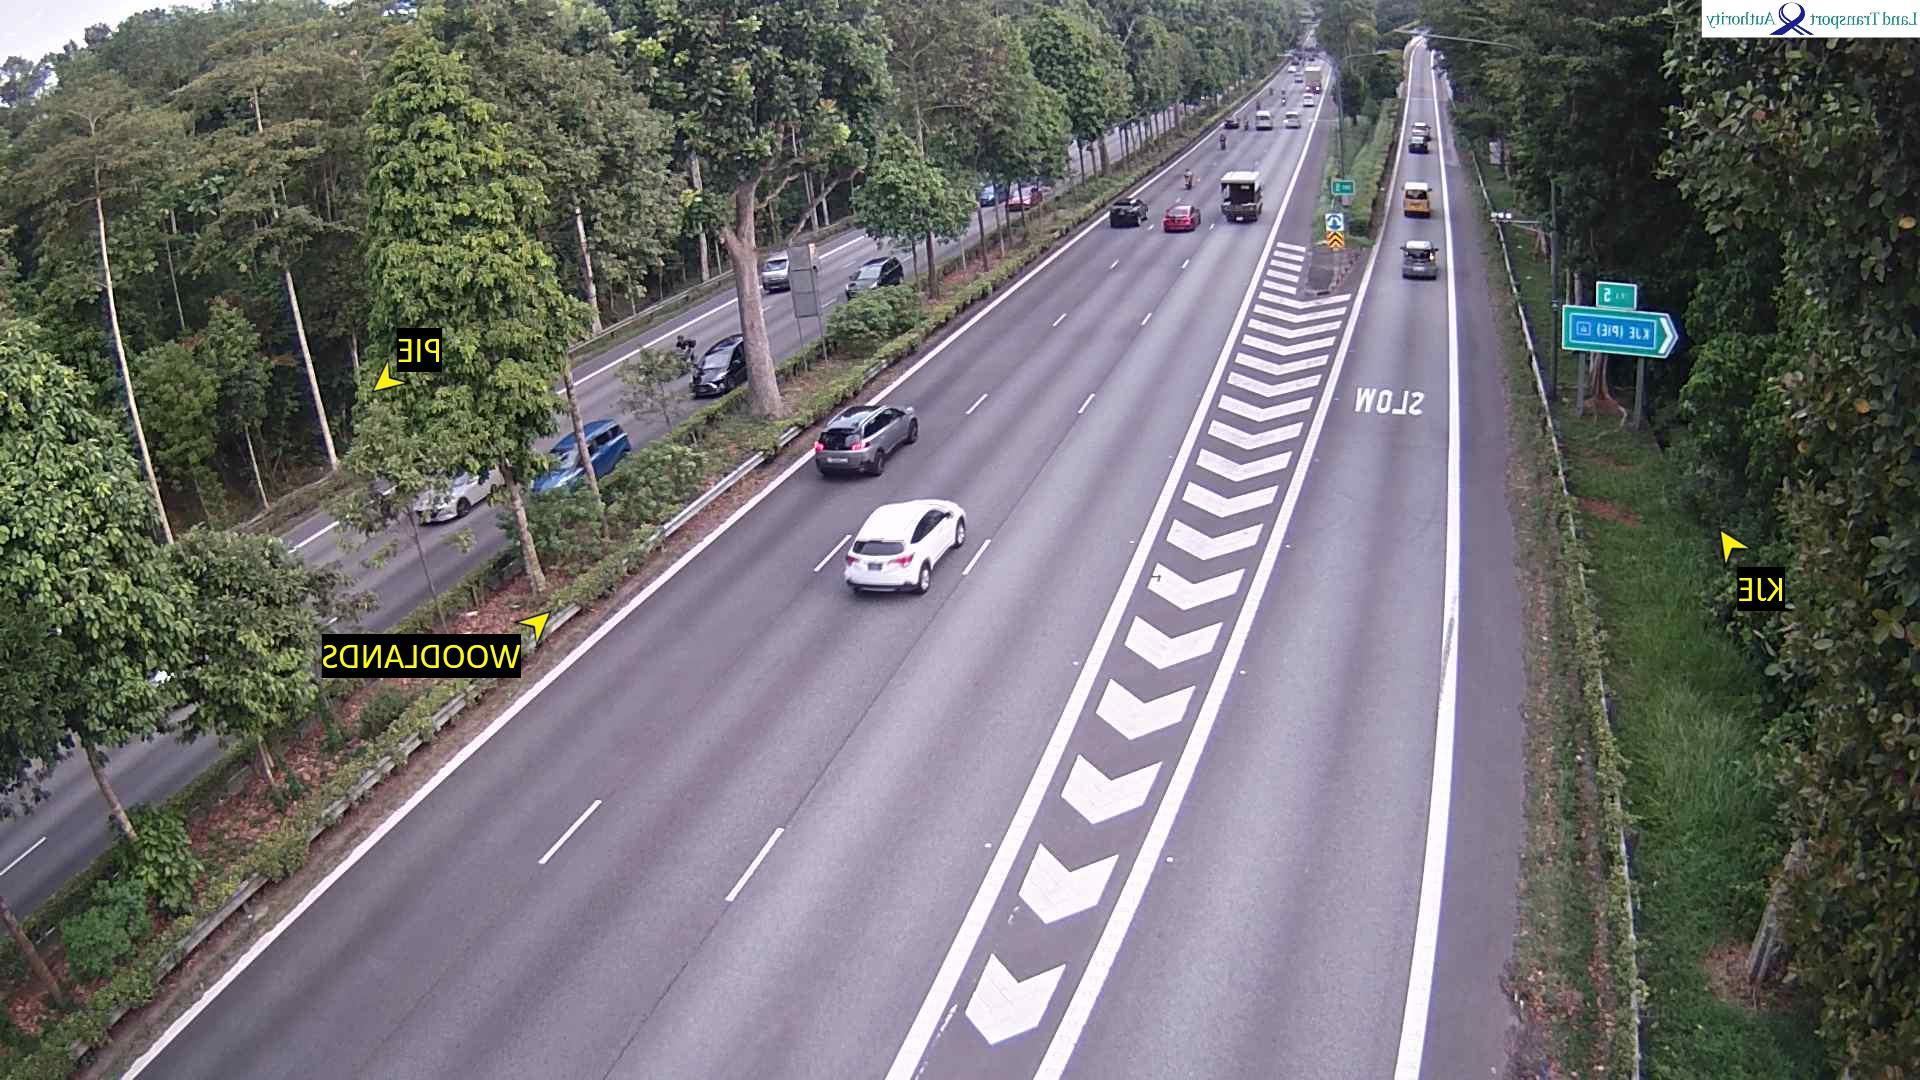incoming: (530, 444, 578, 493), (690, 342, 735, 393), (845, 262, 885, 294), (762, 256, 787, 290)
